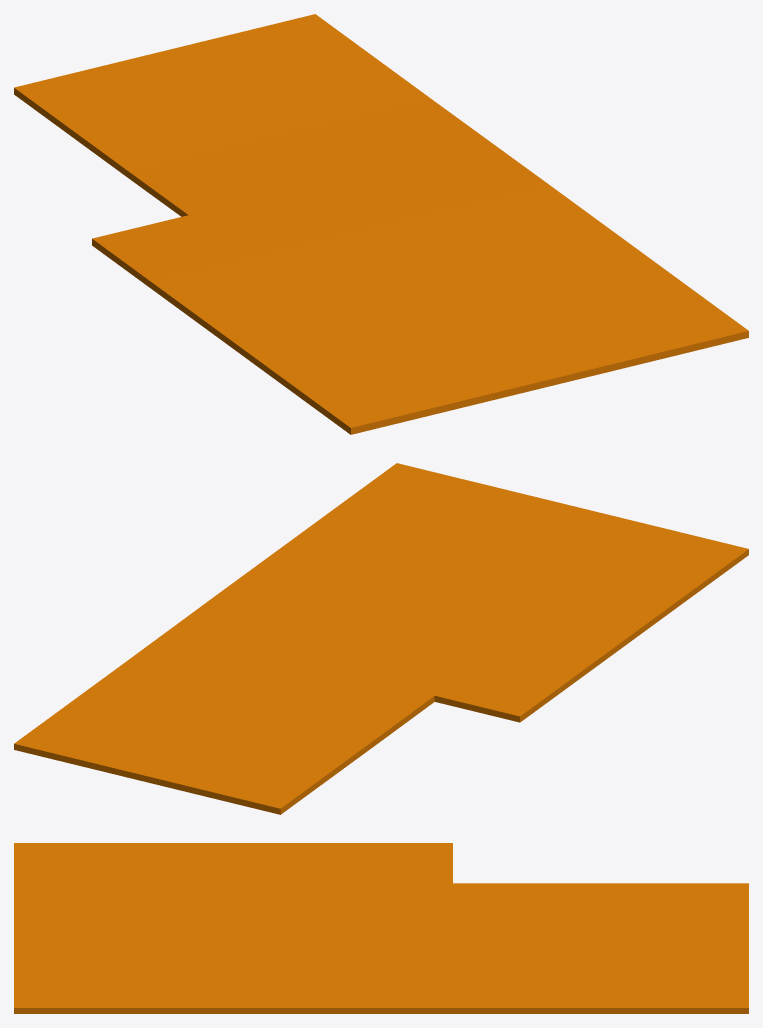
The model's file is S_03_Roof_01.fbx.
The picture shows the model from 3 angles, top to bottom: view 1: azimuth 30°, elevation 25°; view 2: azimuth 150°, elevation 25°; view 3: azimuth 270°, elevation 25°; orthographic projection. The views are drawn at different scales.
Parts seen in each view (by area): view 1: S_03_Roof_01; view 2: S_03_Roof_01; view 3: S_03_Roof_01.
Boxes of the visible parts, <box> form: S_03_Roof_01: <box>14,14,748,434</box>; S_03_Roof_01: <box>14,463,748,814</box>; S_03_Roof_01: <box>14,843,748,1013</box>.
Size of the model in its own units: 1189 by 20.26 by 2240.
